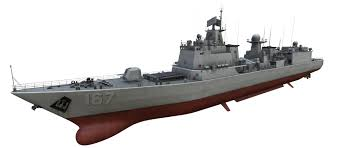Ship: (11, 28, 323, 145)
